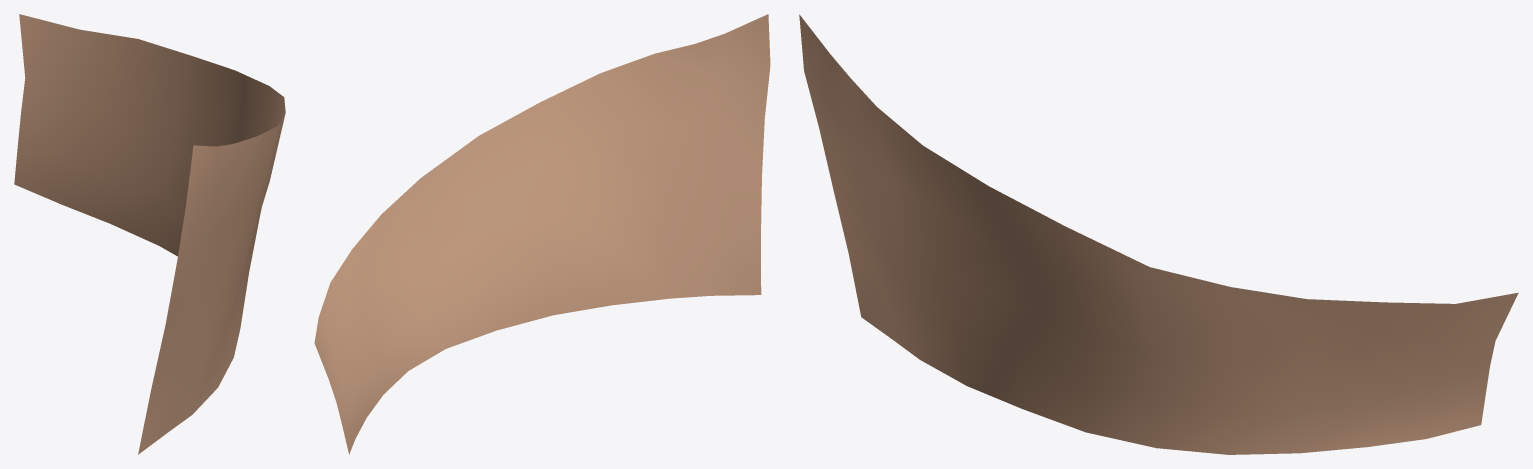
File: hypochondriac-region-l.glb
The picture shows the model from 3 angles, left to right: view 1: azimuth 30°, elevation 25°; view 2: azimuth 150°, elevation 25°; view 3: azimuth 270°, elevation 25°; orthographic projection. The views are drawn at different scales.
Visible parts, largest first — view 1: Hypochondriac region.l; view 2: Hypochondriac region.l; view 3: Hypochondriac region.l.
Boxes of the visible parts, box(x1,y1,x2,y2) form: Hypochondriac region.l: box(14, 14, 285, 454); Hypochondriac region.l: box(314, 14, 770, 454); Hypochondriac region.l: box(799, 14, 1518, 454).
Bounding box in the file's own units: 0.0785 × 0.09 × 0.1761.
